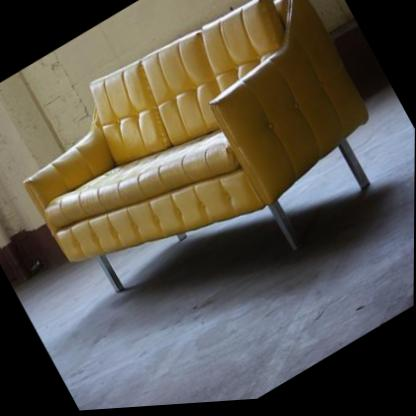Sofa: (0, 0, 414, 364)
